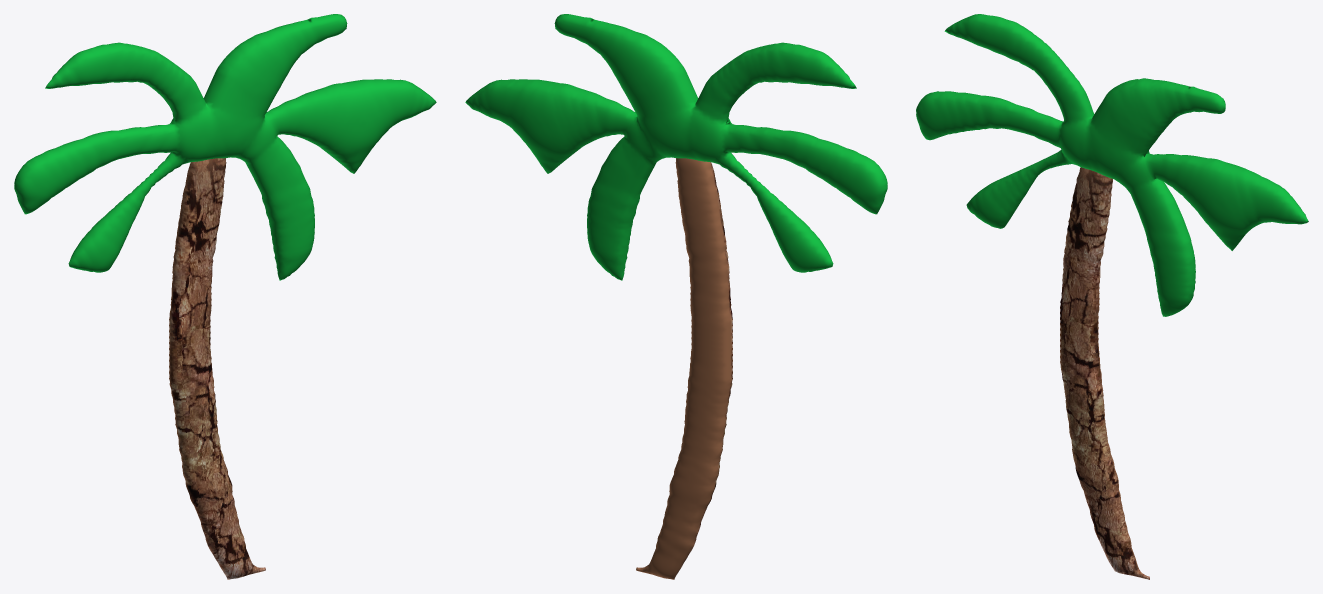
The model's file is palm treesie.fbx.
3 renders of one model, left to right at view 1: azimuth 30°, elevation 25°; view 2: azimuth 150°, elevation 25°; view 3: azimuth 330°, elevation 25°, orthographic. The views are drawn at different scales.
Parts seen in each view (by area): view 1: root (×2); view 2: root (×2); view 3: root (×2).
Part boxes in pixels (x1,y1,x2,y2): root (×2): [14, 14, 436, 579]; root (×2): [465, 14, 887, 579]; root (×2): [916, 14, 1308, 579].
Bounding box in the file's own units: 0.4722 × 0.6048 × 0.0369.
Materials: 2 (1 with a texture image).
